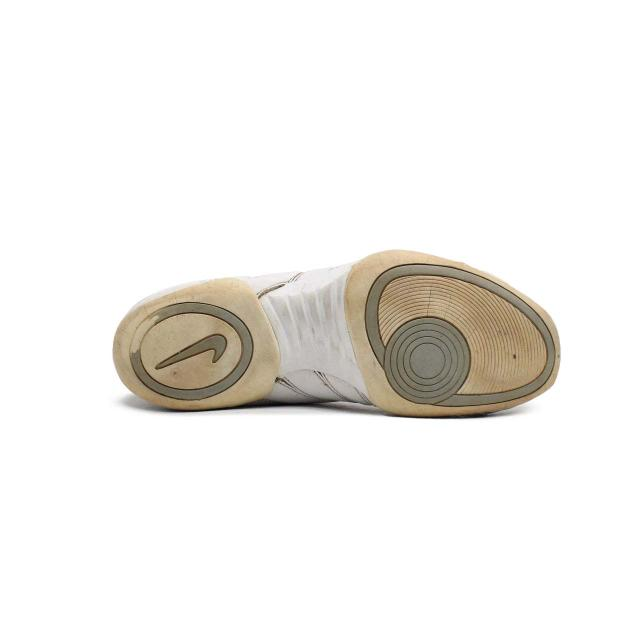outersole: (112, 254, 559, 413)
